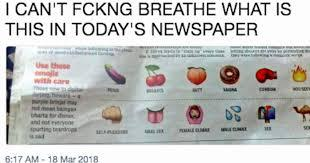Printing industry: (9, 47, 310, 142)
